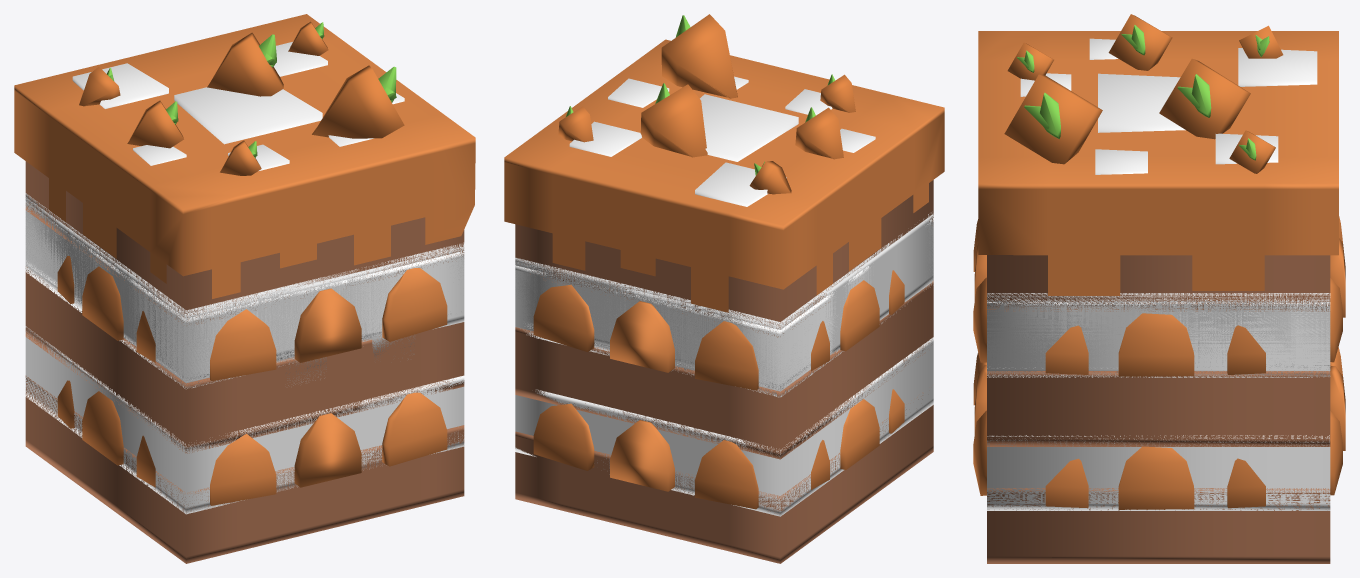
Rendered from carrot_cake.glb.
3 renders of one model, left to right at view 1: azimuth 30°, elevation 25°; view 2: azimuth 150°, elevation 25°; view 3: azimuth 270°, elevation 25°, orthographic. The views are drawn at different scales.
Visible parts, largest first — view 1: frosting, Cube, Cube.023, Cube.013, Cube.001, top, Cube.003, strawberry, Cube.004, Cube.012, Cube.034, Cube.022 (+17 smaller); view 2: frosting, Cube, Cube.023, Cube.013, Cube.003, Cube.001, top, strawberry, Cube.004, Cube.034, Cube.012, Cube.031 (+17 smaller); view 3: frosting, Cube, Cube.023, Cube.013, Cube.001, top, Cube.003, strawberry, Cube.034, Cube.012, Cube.031, Cube.026 (+19 smaller).
Boxes of the visible parts, x1,y1,x2,y2 form: frosting: (14,14,475,298); Cube: (25,266,464,453); Cube.023: (25,375,464,563); Cube.013: (25,326,464,514); Cube.001: (25,201,464,389); top: (25,197,464,380); Cube.003: (25,161,464,324); strawberry: (294,288,361,487); Cube.004: (25,193,464,385); Cube.012: (174,87,322,144); Cube.034: (312,65,404,138); Cube.022: (382,392,447,466); frosting: (504,39,944,312); Cube: (515,280,933,459); Cube.023: (515,392,933,563); Cube.013: (515,337,933,516); Cube.003: (515,180,933,337); Cube.001: (515,218,933,397); top: (515,214,933,391); strawberry: (610,301,674,491); Cube.004: (515,212,932,389); Cube.034: (661,14,737,98); Cube.012: (700,94,798,161); Cube.031: (640,84,707,157); frosting: (978,31,1338,295); Cube: (987,371,1330,446); Cube.023: (987,488,1330,563); Cube.013: (987,435,1330,510); Cube.001: (987,302,1330,377); top: (987,297,1330,367); Cube.003: (987,255,1330,311); strawberry: (974,238,1345,509); Cube.034: (1004,74,1102,164); Cube.012: (1098,73,1185,132); Cube.031: (1159,58,1250,139); Cube.026: (1238,48,1317,86).
Size of the model in its own units: 2.1 by 2.92 by 2.17.
